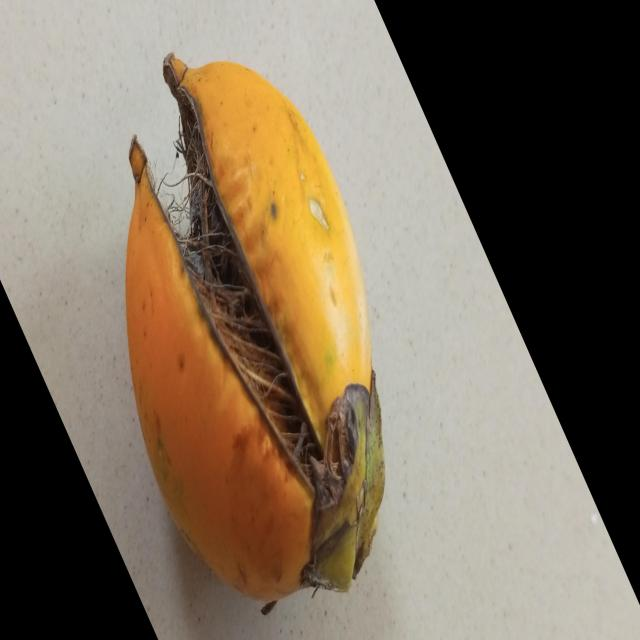damaged: (125, 53, 386, 616)
